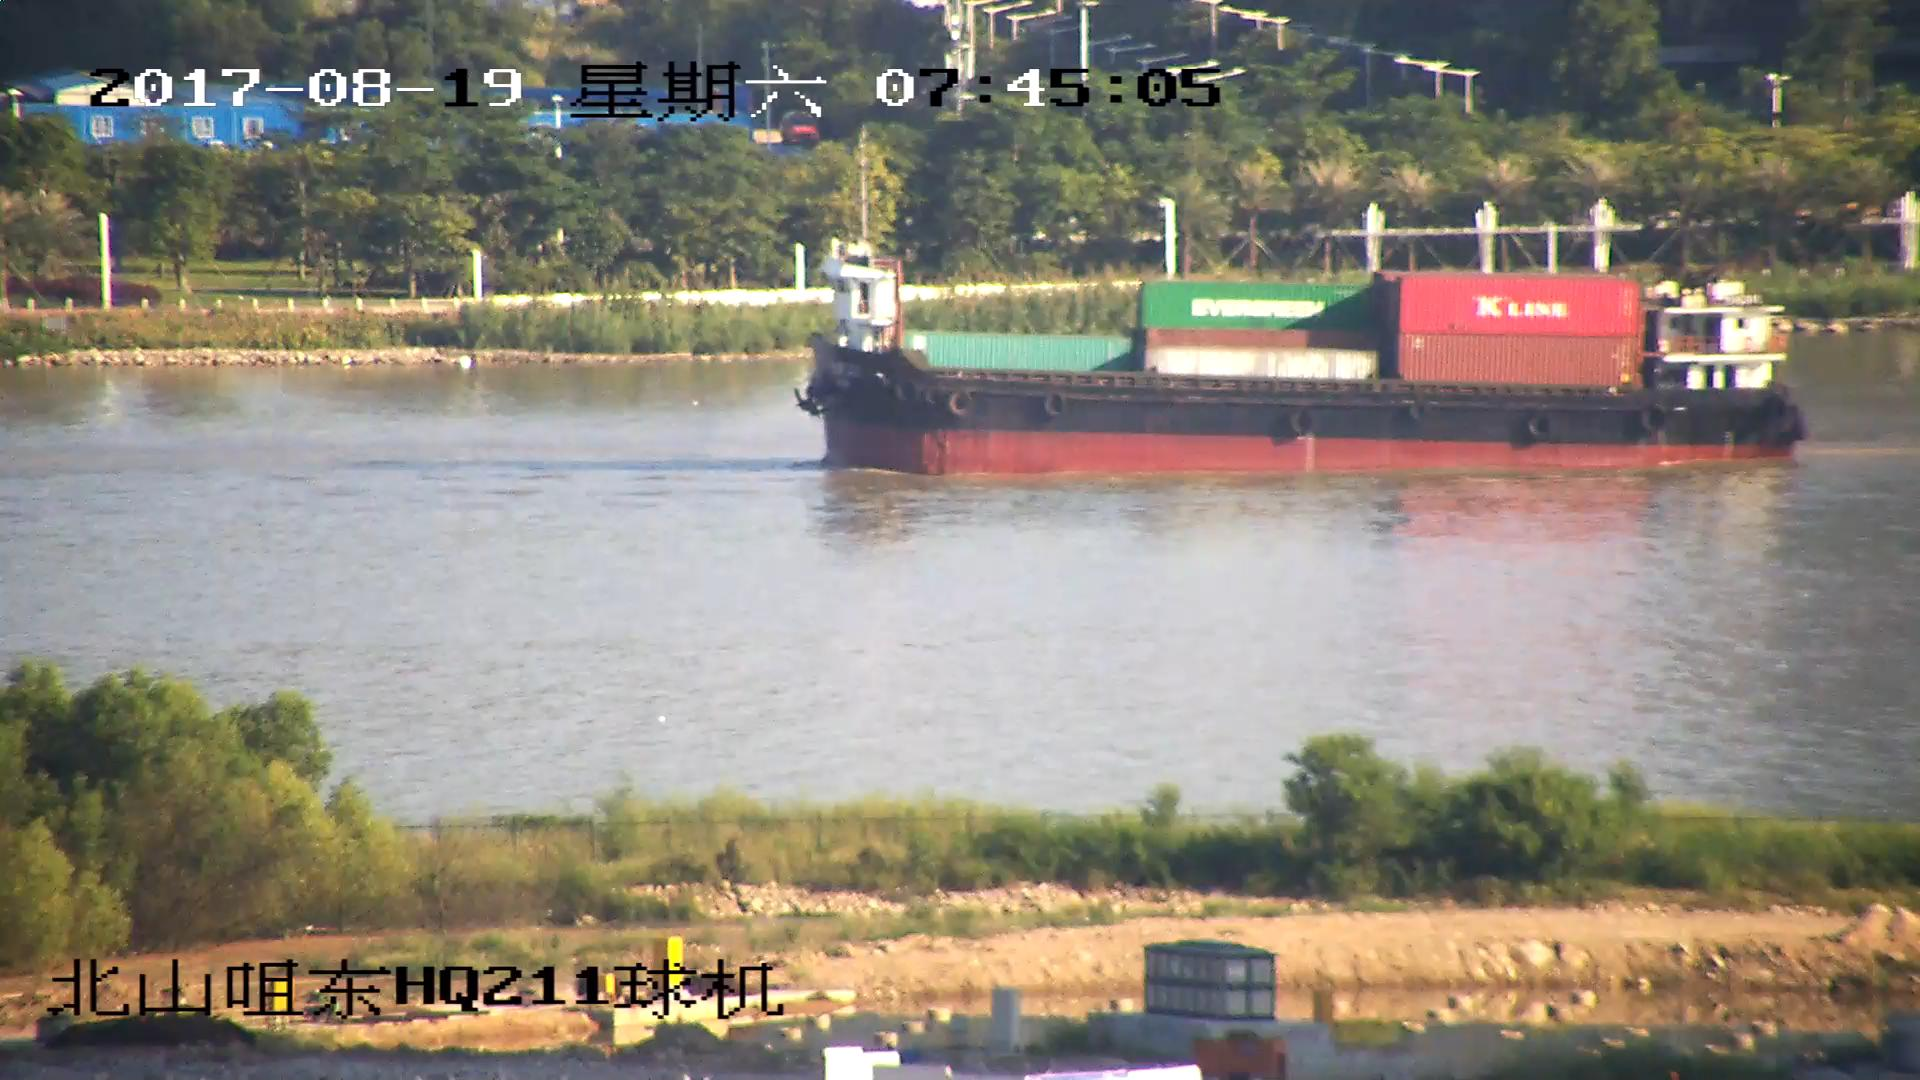container ship: (797, 156, 1806, 484)
